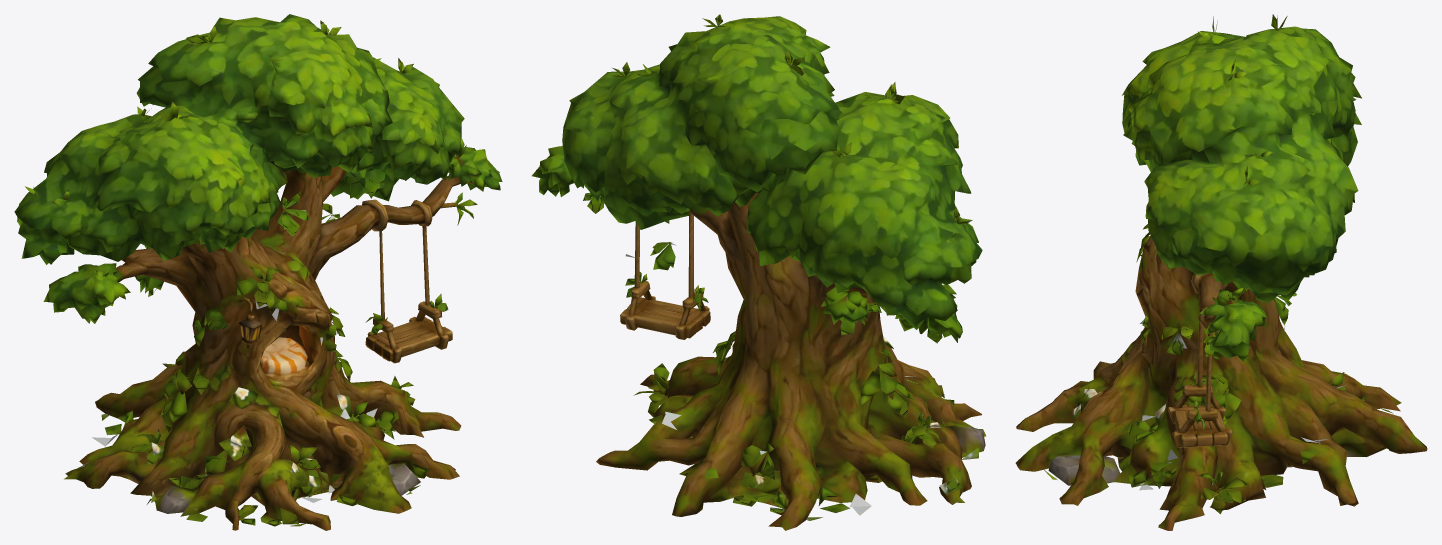
The model's file is enclos_arbre.glb.
3 views of the same model, side by side, from view 1: azimuth 30°, elevation 25°; view 2: azimuth 150°, elevation 25°; view 3: azimuth 270°, elevation 25° (orthographic). The views are drawn at different scales.
Visible parts, largest first — view 1: geometry_0; view 2: geometry_0; view 3: geometry_0.
Part boxes in pixels (x1,y1,x2,y2): geometry_0: (14,14,502,530); geometry_0: (532,14,985,530); geometry_0: (1015,14,1427,530).
Bounding box in the file's own units: 0.958 × 0.8305 × 0.7378.
Materials: 1 (1 with a texture image).
